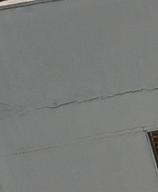fissura: (40, 79, 158, 117)
